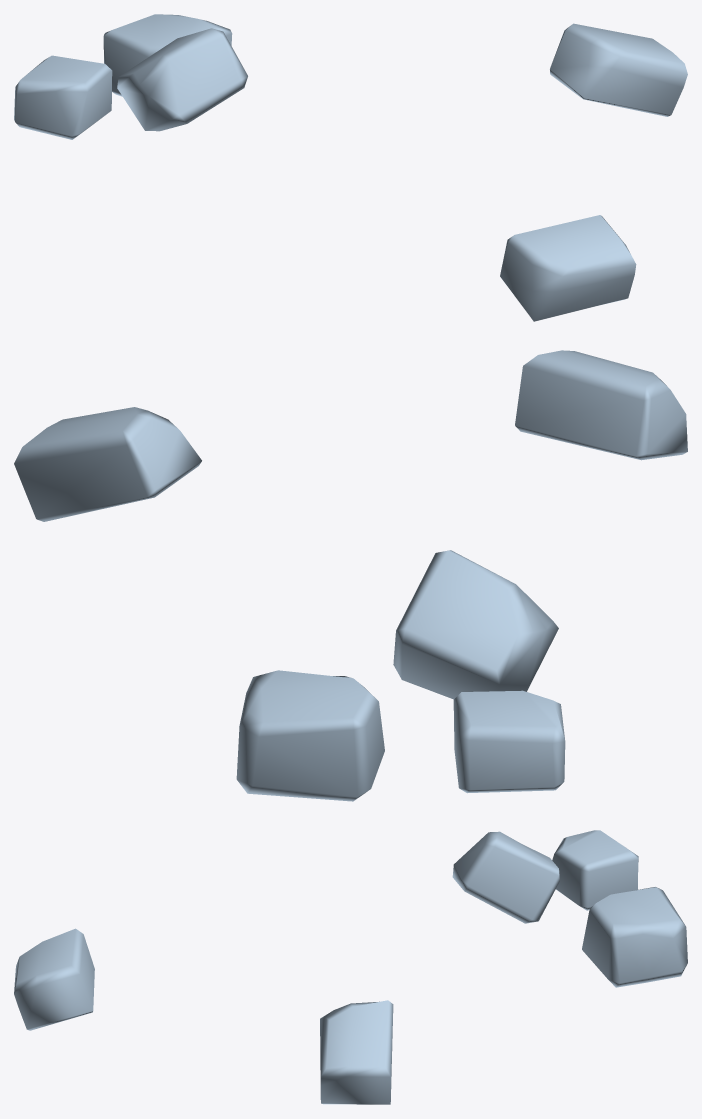
Rendered from Rubble_01B_Lod0.fbx.
The picture shows the model from 3 angles, top to bottom: view 1: azimuth 30°, elevation 25°; view 2: azimuth 150°, elevation 25°; view 3: azimuth 270°, elevation 25°; orthographic projection. The views are drawn at different scales.
Visible parts, largest first — view 1: Rubble_01B_Lod0; view 2: Rubble_01B_Lod0; view 3: Rubble_01B_Lod0.
Part boxes in pixels (x1=…): Rubble_01B_Lod0: x1=14, y1=14, x2=687, y2=321; Rubble_01B_Lod0: x1=14, y1=350, x2=687, y2=801; Rubble_01B_Lod0: x1=14, y1=830, x2=687, y2=1104.
Size of the model in its own units: 235 by 54.54 by 279.
